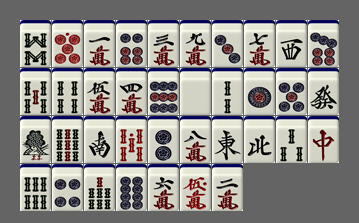0m: (180, 164, 211, 211)
0p: (52, 20, 83, 67)
0s: (116, 116, 147, 163)
1m: (84, 20, 115, 67)
1p: (244, 68, 275, 115)
1s: (20, 116, 51, 163)
1z: (212, 116, 243, 163)
2m: (212, 164, 243, 211)
2p: (148, 116, 179, 163)
2s: (212, 68, 243, 115)
2z: (84, 116, 115, 163)
3m: (148, 20, 179, 67)
3p: (212, 20, 243, 67)
3s: (276, 116, 307, 163)
3z: (276, 20, 307, 67)
4m: (116, 68, 147, 115)
4p: (52, 164, 83, 211)
4s: (52, 68, 83, 115)
4z: (244, 116, 275, 163)
5m: (84, 68, 115, 115)
5p: (276, 68, 307, 115)
5s: (20, 68, 51, 115)
5z: (180, 68, 211, 115)
6m: (148, 164, 179, 211)
6p: (116, 20, 147, 67)
6s: (20, 164, 51, 211)
6z: (308, 68, 339, 115)
7m: (244, 20, 275, 67)
7p: (308, 20, 339, 67)
7s: (84, 164, 115, 211)
7z: (308, 116, 339, 163)
8m: (180, 116, 211, 163)
8p: (116, 164, 147, 211)
8s: (20, 20, 51, 67)
9m: (180, 20, 211, 67)
9p: (148, 68, 179, 115)
9s: (52, 116, 83, 163)
